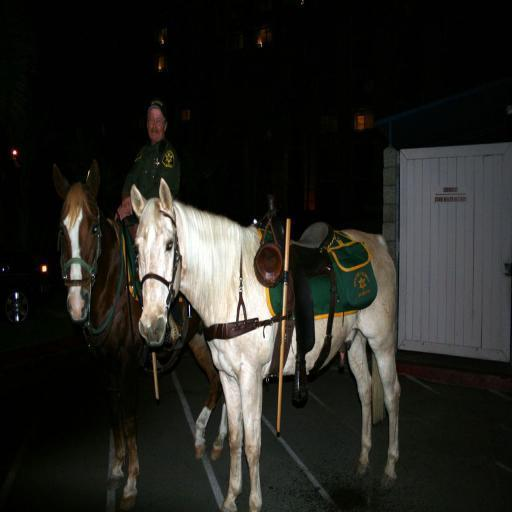horse: (128, 176, 400, 510), (52, 154, 230, 508)
